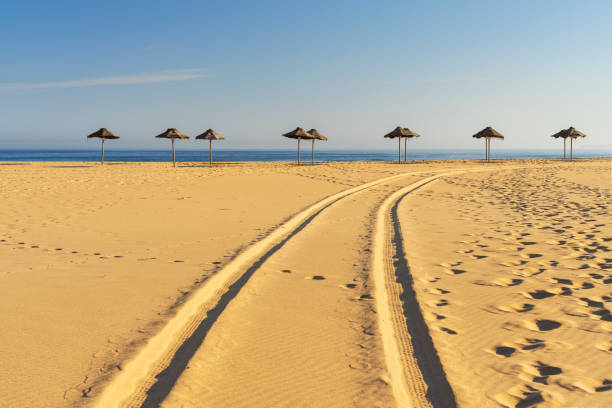human_footprint: (95, 171, 430, 406), (415, 170, 611, 405), (372, 166, 519, 407), (492, 360, 611, 406), (487, 319, 574, 360), (493, 361, 572, 406), (0, 239, 125, 259), (486, 335, 572, 357), (523, 276, 591, 300), (420, 277, 450, 323), (492, 383, 544, 407), (0, 239, 79, 254), (519, 361, 562, 383), (500, 318, 567, 331), (577, 296, 611, 321), (573, 378, 611, 393), (576, 319, 611, 335), (513, 337, 550, 351), (523, 318, 562, 331), (576, 293, 611, 307), (472, 277, 523, 286), (580, 271, 611, 284), (496, 302, 534, 312), (512, 266, 546, 277), (439, 261, 465, 274), (488, 345, 515, 357), (523, 289, 554, 299), (561, 306, 588, 317), (492, 277, 523, 286), (590, 308, 611, 321), (580, 272, 604, 282), (500, 259, 528, 267), (498, 244, 524, 252), (424, 311, 446, 320), (596, 340, 611, 353), (537, 258, 558, 267), (550, 277, 573, 285), (572, 281, 594, 289), (427, 298, 448, 306), (597, 258, 611, 270), (425, 287, 449, 294), (419, 275, 439, 283), (437, 326, 457, 334), (353, 293, 373, 300), (439, 261, 462, 267), (545, 239, 567, 245), (445, 268, 465, 274), (520, 253, 542, 258), (305, 275, 325, 280), (455, 248, 473, 253), (470, 254, 487, 259), (136, 257, 157, 261), (340, 283, 356, 288), (459, 239, 478, 243), (520, 241, 537, 245), (211, 261, 222, 265), (281, 269, 291, 273), (475, 244, 488, 247), (172, 259, 184, 262), (113, 255, 122, 258), (54, 247, 62, 250), (30, 245, 38, 248), (70, 250, 78, 253)
